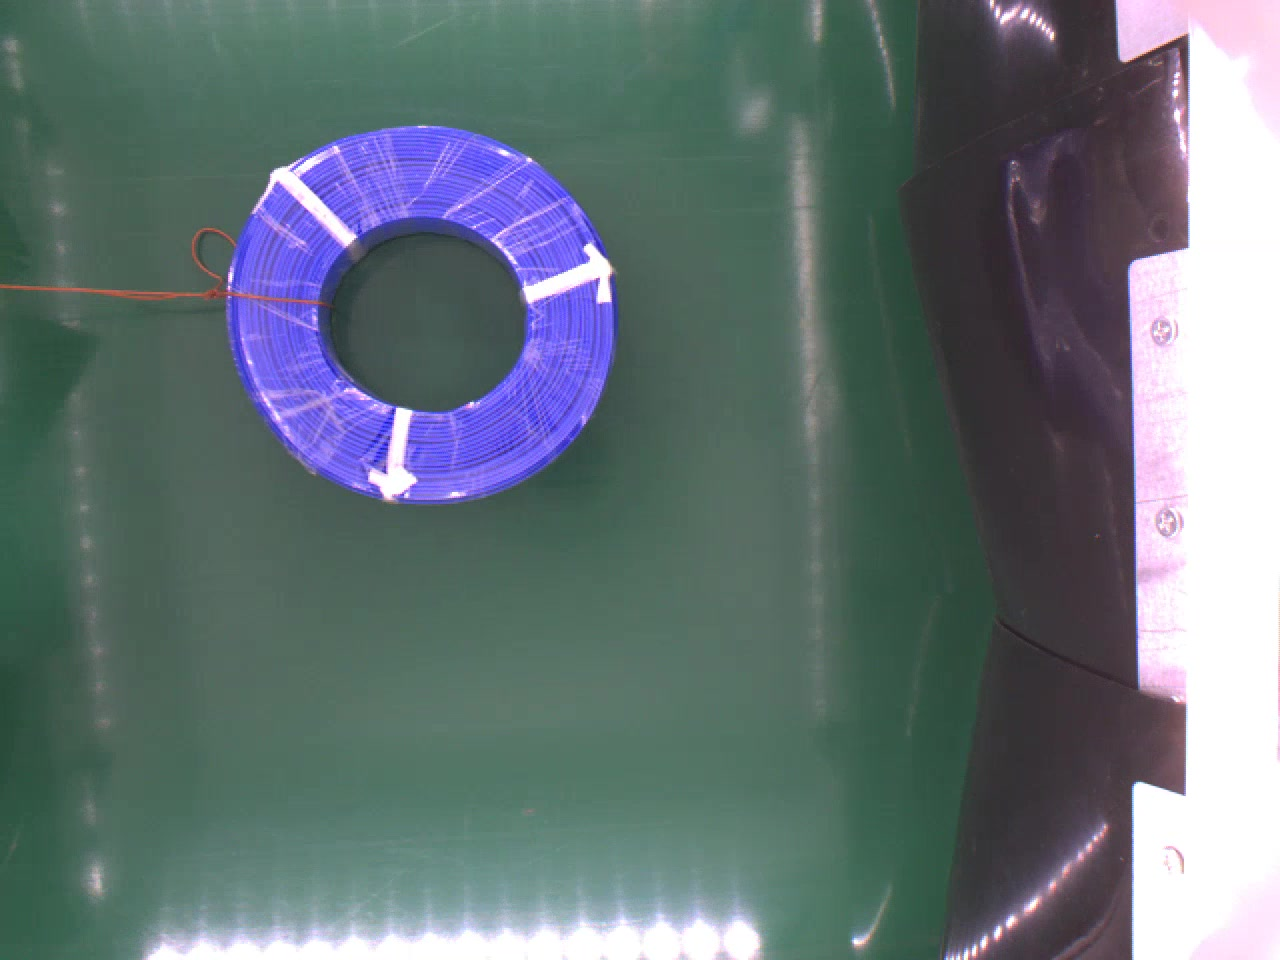blue: (224, 118, 619, 498)
